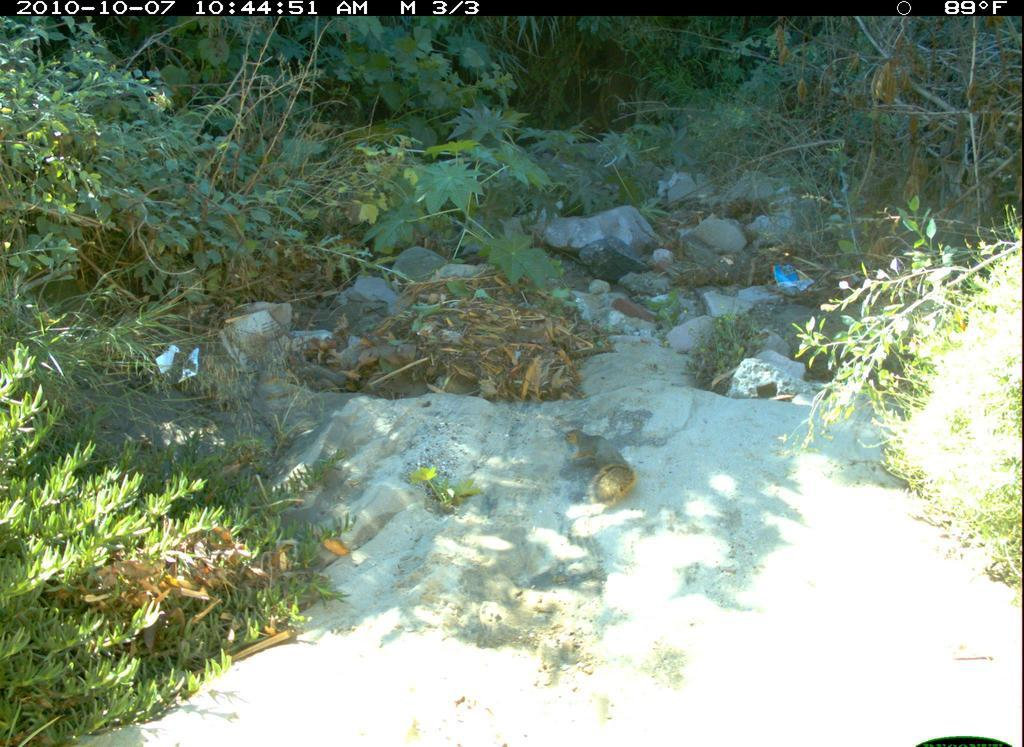squirrel: (551, 424, 647, 513)
